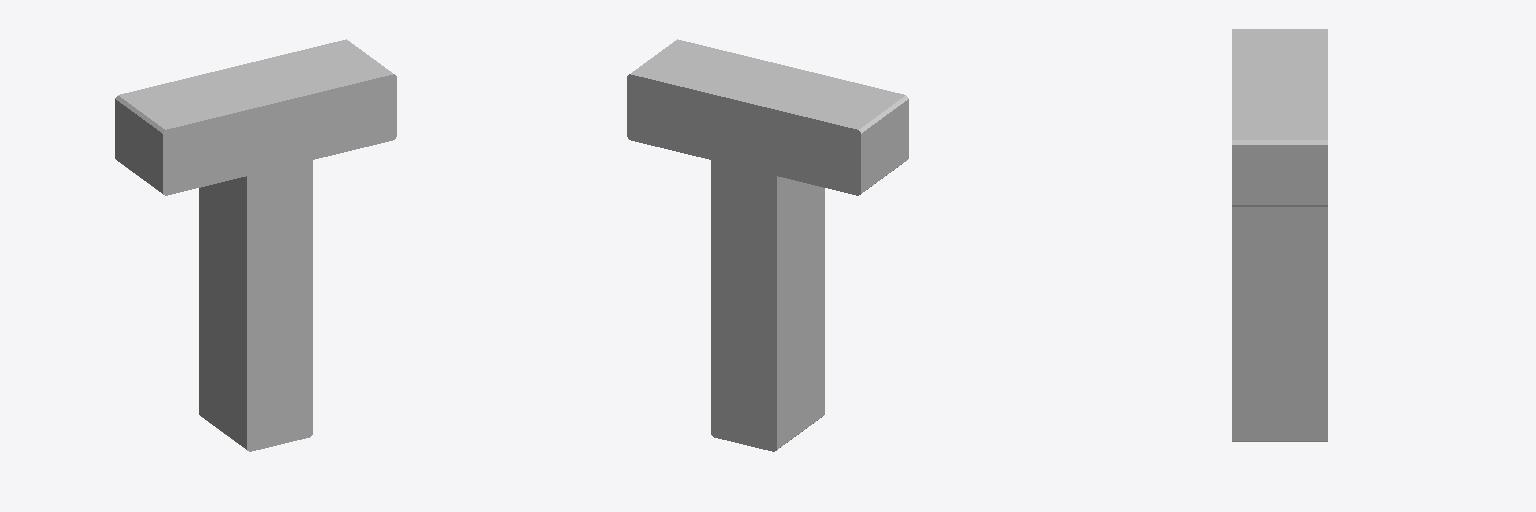
3 renders of one model, left to right at view 1: azimuth 30°, elevation 25°; view 2: azimuth 150°, elevation 25°; view 3: azimuth 270°, elevation 25°, orthographic.
Visible parts, largest first — view 1: text: ABCDEFGHIJKLMNOPQRSTUVWXYZ[number redacted]; view 2: text: ABCDEFGHIJKLMNOPQRSTUVWXYZ[number redacted]; view 3: text: ABCDEFGHIJKLMNOPQRSTUVWXYZ[number redacted].
Boxes of the visible parts, box(x1,y1,x2,y2) form: text: ABCDEFGHIJKLMNOPQRSTUVWXYZ[number redacted]: box(115, 39, 396, 451); text: ABCDEFGHIJKLMNOPQRSTUVWXYZ[number redacted]: box(627, 39, 908, 451); text: ABCDEFGHIJKLMNOPQRSTUVWXYZ[number redacted]: box(1232, 29, 1327, 441).
Bounding box in the file's own units: 71.06 × 99.29 × 25.